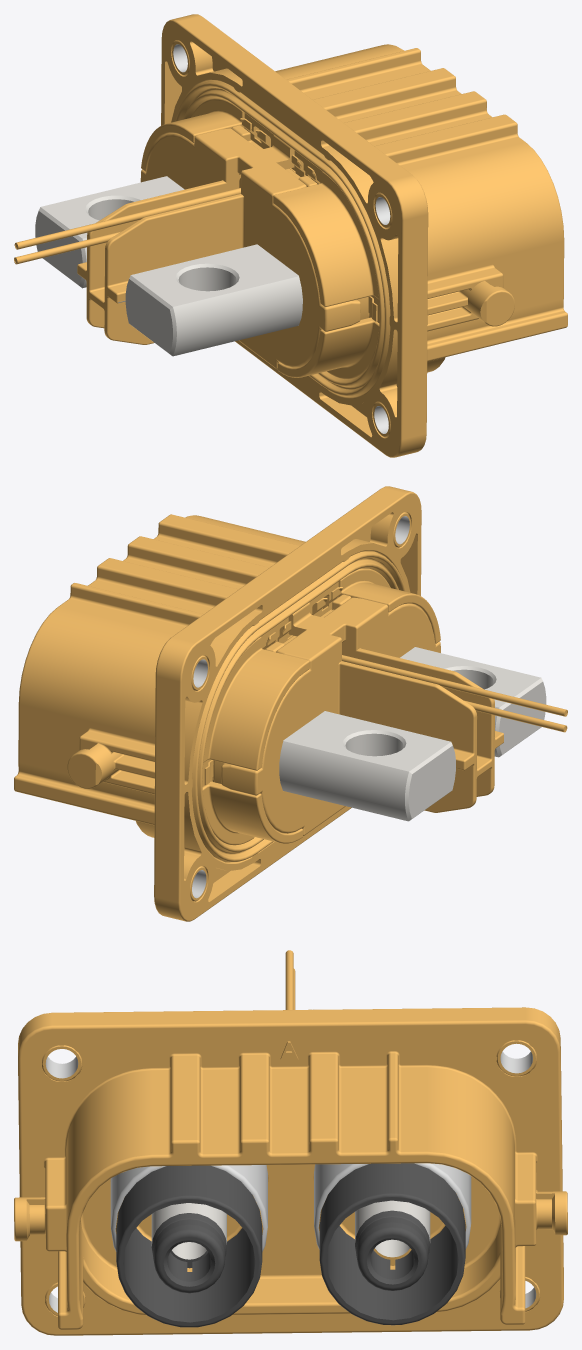
Rendered from EVH1A-H2ZJ-WA.glb.
3 renders of one model, top to bottom at view 1: azimuth 30°, elevation 25°; view 2: azimuth 150°, elevation 25°; view 3: azimuth 270°, elevation 25°, orthographic. The views are drawn at different scales.
Visible parts, largest first — view 1: EVH1A-H2ZJ-WA v9; view 2: EVH1A-H2ZJ-WA v9; view 3: EVH1A-H2ZJ-WA v9.
Part boxes in pixels (x1=…): EVH1A-H2ZJ-WA v9: x1=14, y1=14, x2=567, y2=457; EVH1A-H2ZJ-WA v9: x1=14, y1=486, x2=567, y2=921; EVH1A-H2ZJ-WA v9: x1=14, y1=950, x2=567, y2=1335.
Size of the model in its own units: 9.27 by 5.53 by 8.81.
